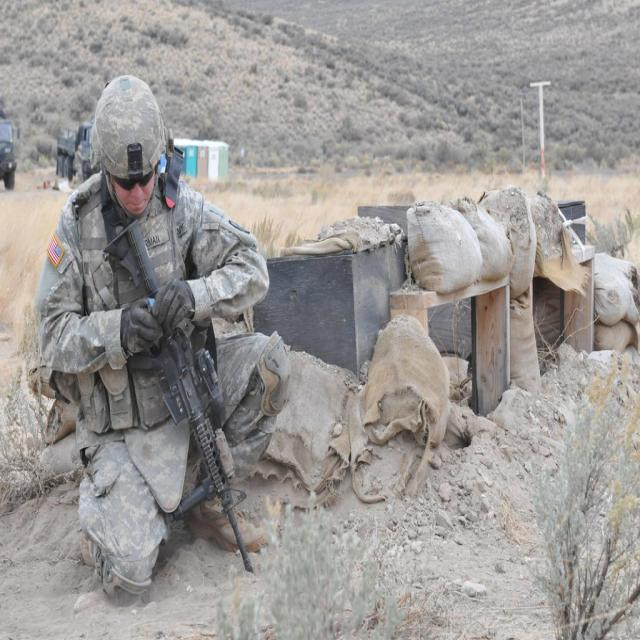Weapon: (121, 222, 282, 571)
